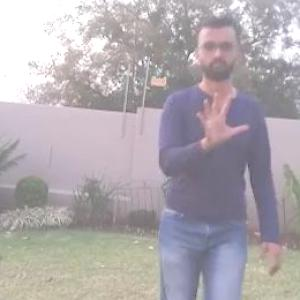follow_hand: (192, 84, 252, 146)
